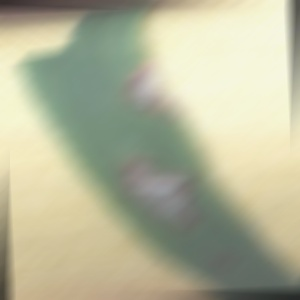Brown_Spot: (102, 143, 205, 235), (112, 47, 183, 129)
